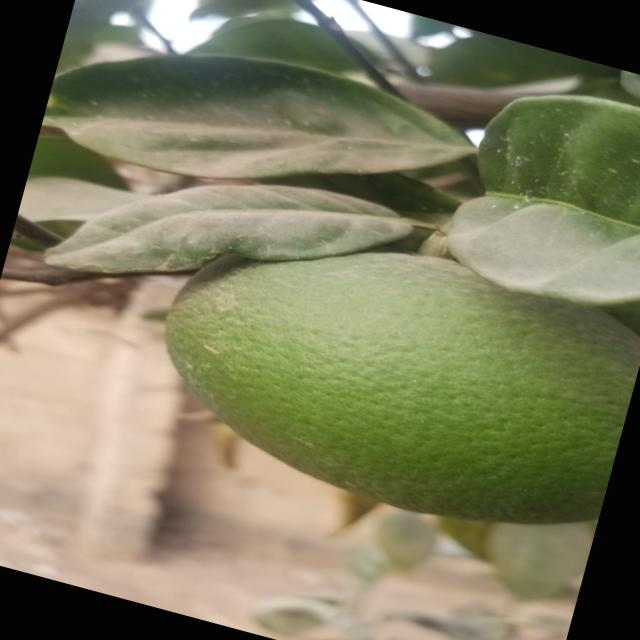Unripe: (141, 200, 640, 553)
